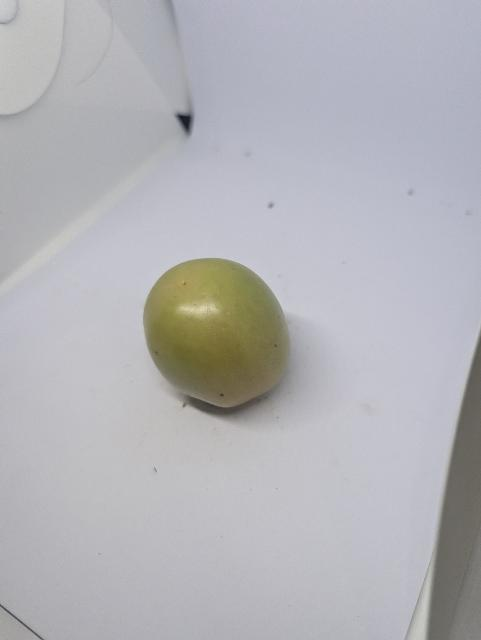breaker: (135, 254, 296, 413)
